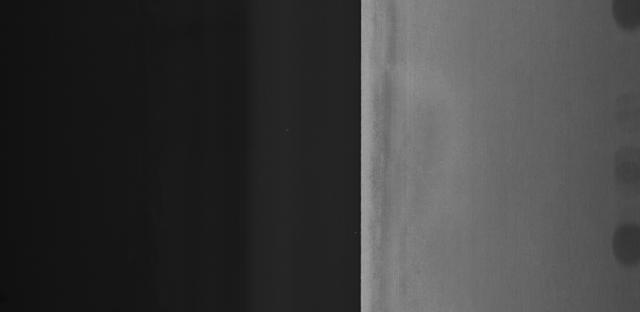oil_spot: (605, 85, 640, 194), (602, 218, 640, 273), (609, 2, 640, 55)
